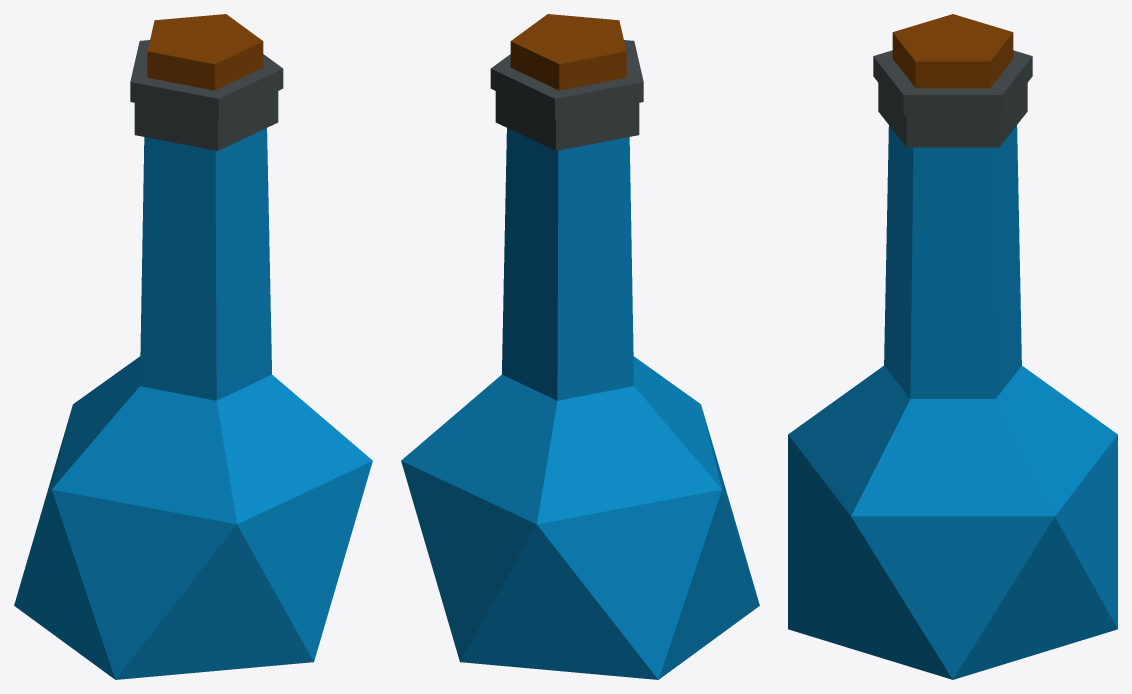
File: Potion2.fbx
3 views of the same model, side by side, from view 1: azimuth 30°, elevation 25°; view 2: azimuth 150°, elevation 25°; view 3: azimuth 270°, elevation 25° (orthographic).
Visible parts, largest first — view 1: Icosphere.002; view 2: Icosphere.002; view 3: Icosphere.002.
Boxes of the visible parts, x1,y1,x2,y2 form: Icosphere.002: [14, 14, 372, 679]; Icosphere.002: [401, 14, 759, 679]; Icosphere.002: [788, 14, 1117, 679].
Bounding box in the file's own units: 0.1528 × 0.1532 × 0.3231.
